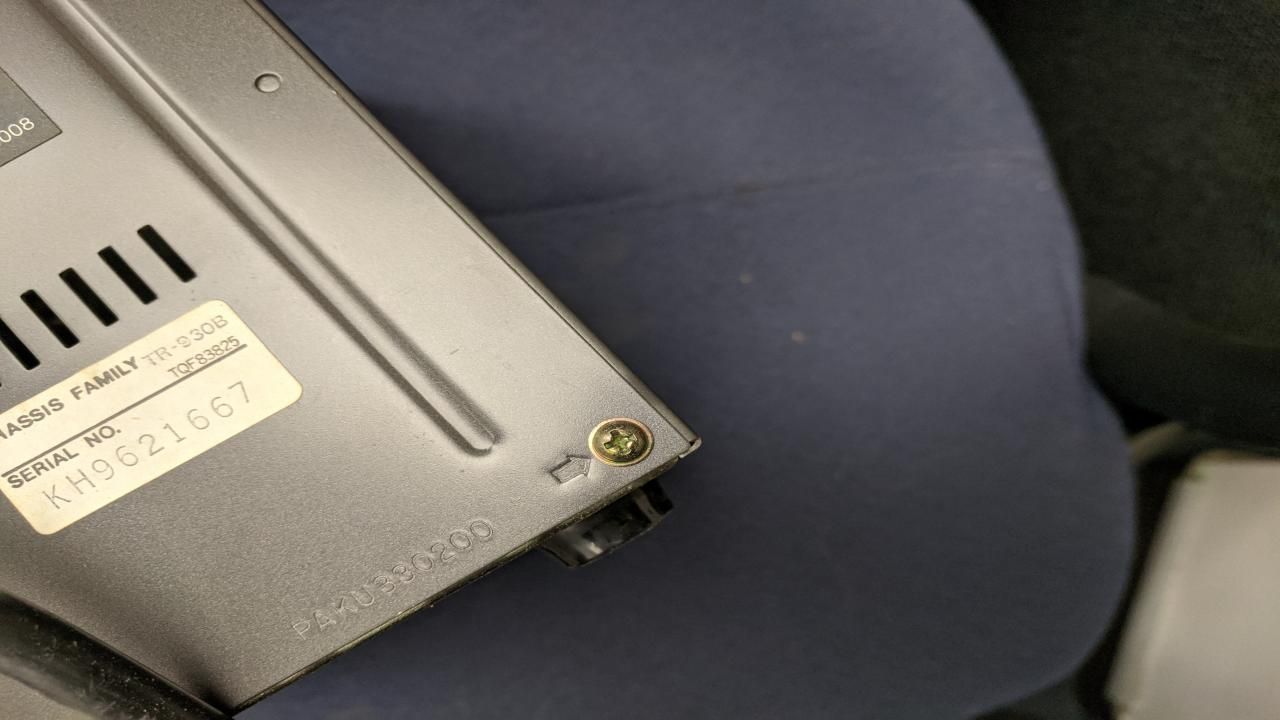CRS: (592, 416, 650, 460)
